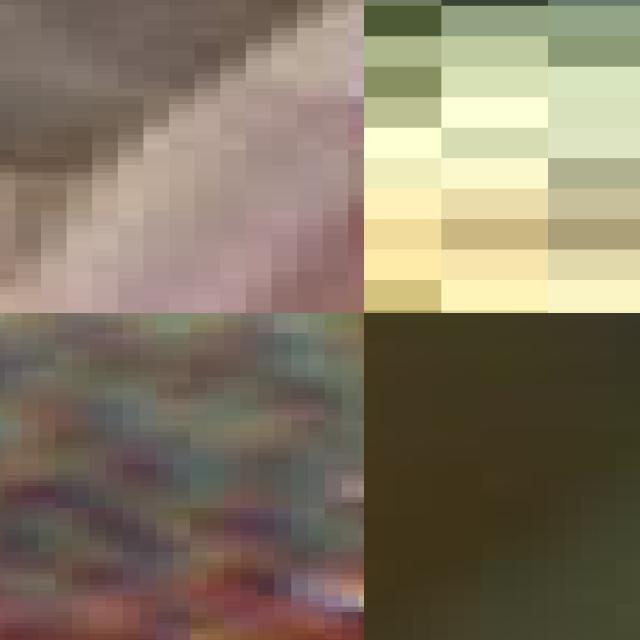fish: (0, 0, 364, 313)
